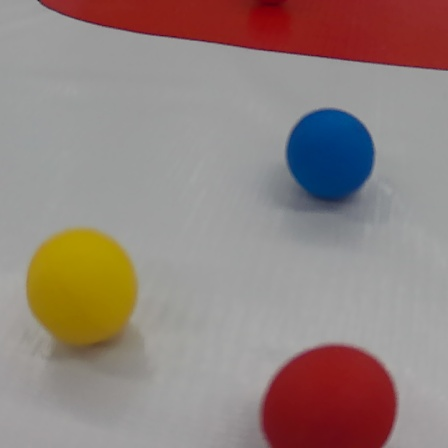blue: (283, 107, 377, 201)
red: (259, 342, 400, 448)
red_base: (18, 0, 446, 76)
yellow: (25, 225, 140, 350)
